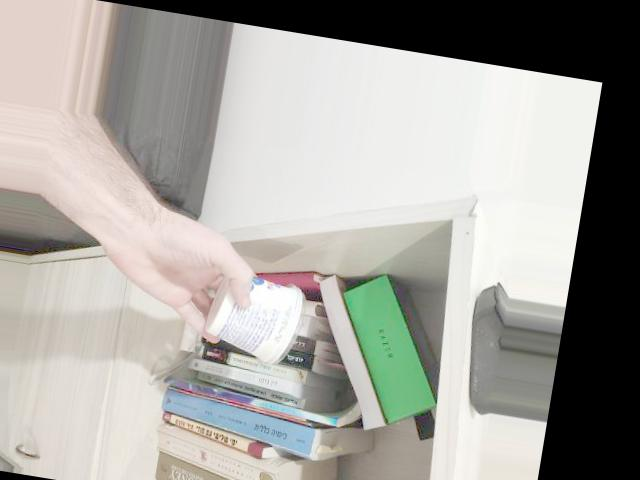cotage: (179, 256, 315, 373)
